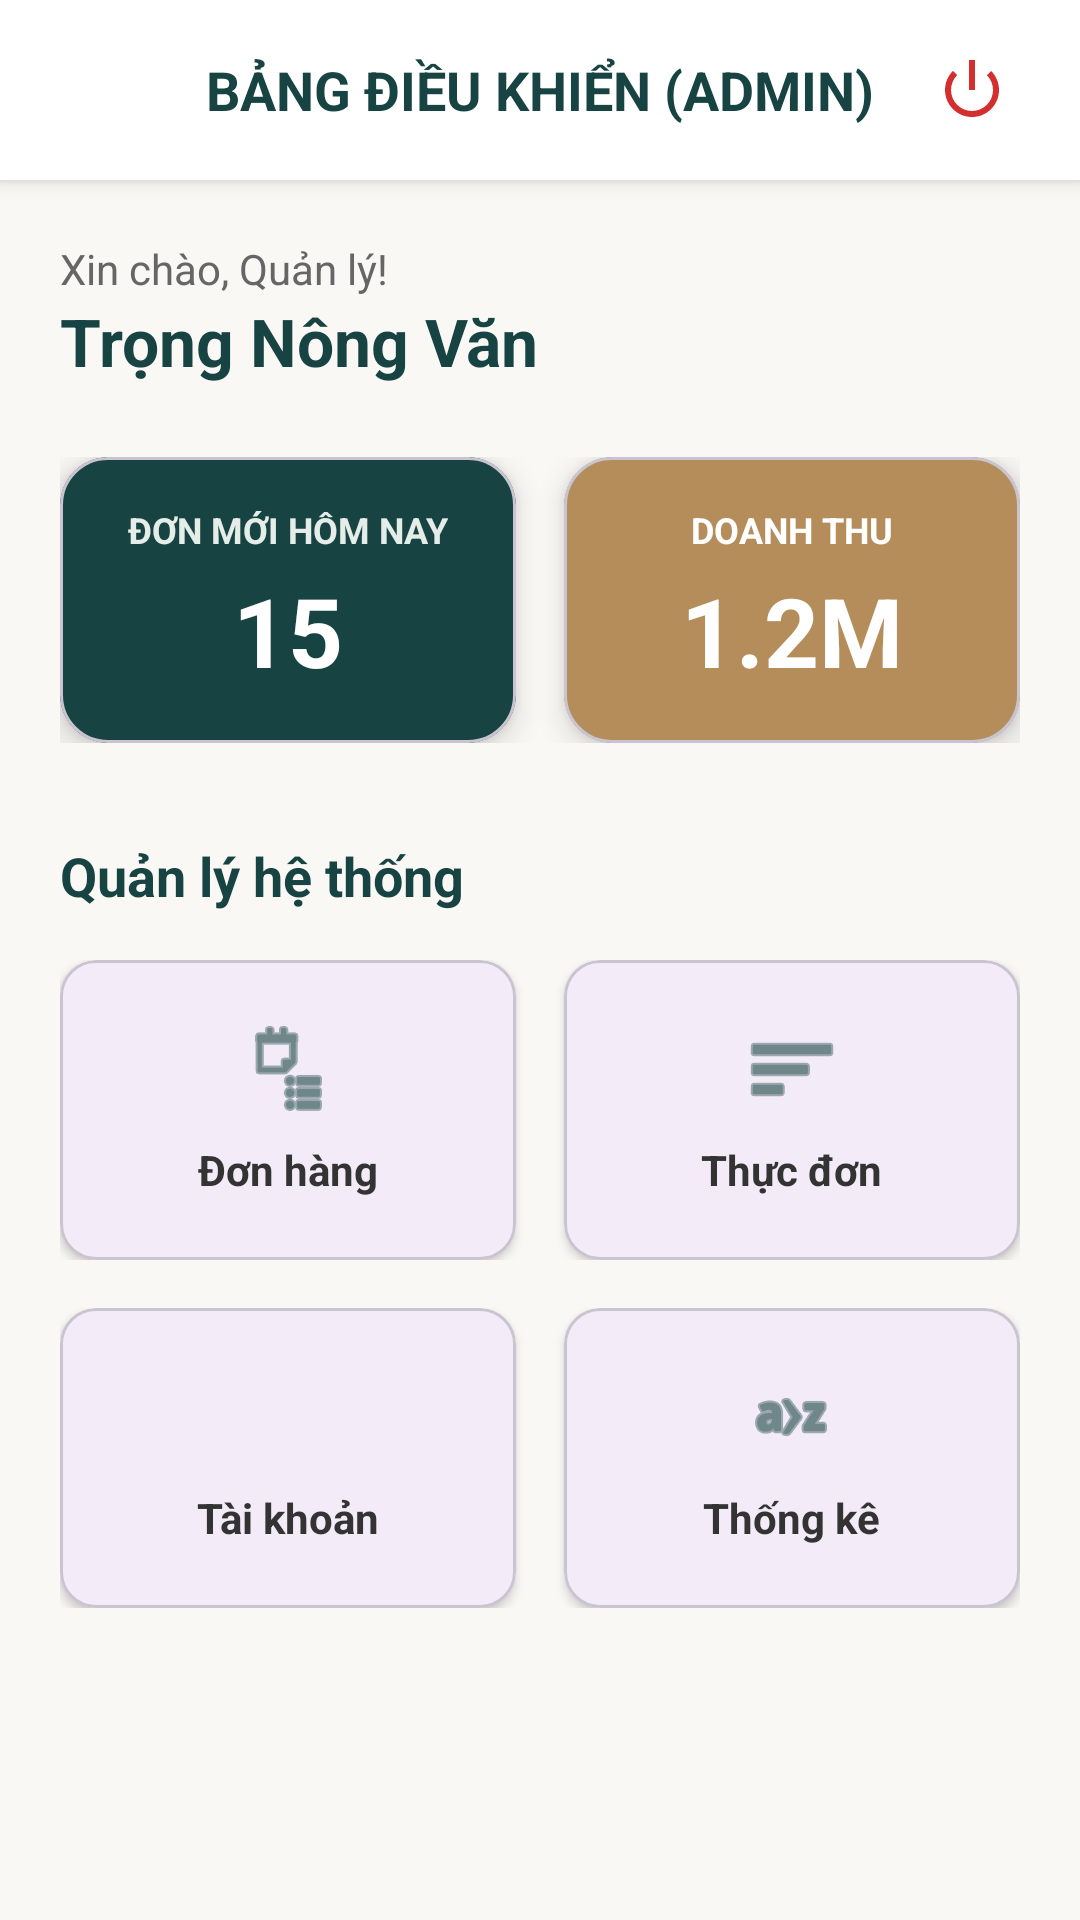

Named icons in this screenshot (1080px x 1920px) and their centers, point (x, y):
agenda: point (288, 1068)
lock power off: point (972, 88)
sort alphabetically: point (791, 1417)
sort by size: point (792, 1069)
